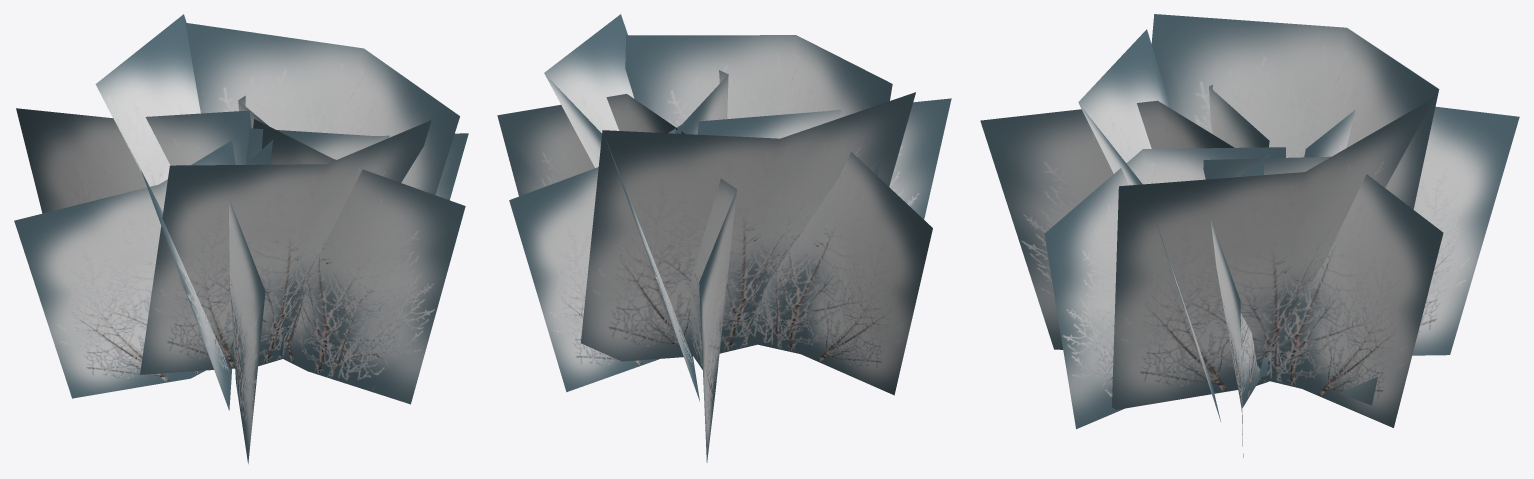
File: Scene_Grass_5.FBX
3 renders of one model, left to right at view 1: azimuth 30°, elevation 25°; view 2: azimuth 150°, elevation 25°; view 3: azimuth 270°, elevation 25°, orthographic. The views are drawn at different scales.
Visible parts, largest first — view 1: Scene_Grass_5; view 2: Scene_Grass_5; view 3: Scene_Grass_5.
Boxes of the visible parts, x1,y1,x2,y2 form: Scene_Grass_5: [14, 14, 468, 463]; Scene_Grass_5: [497, 14, 951, 462]; Scene_Grass_5: [980, 14, 1519, 457].
Bounding box in the file's own units: 265 × 171 × 258.
